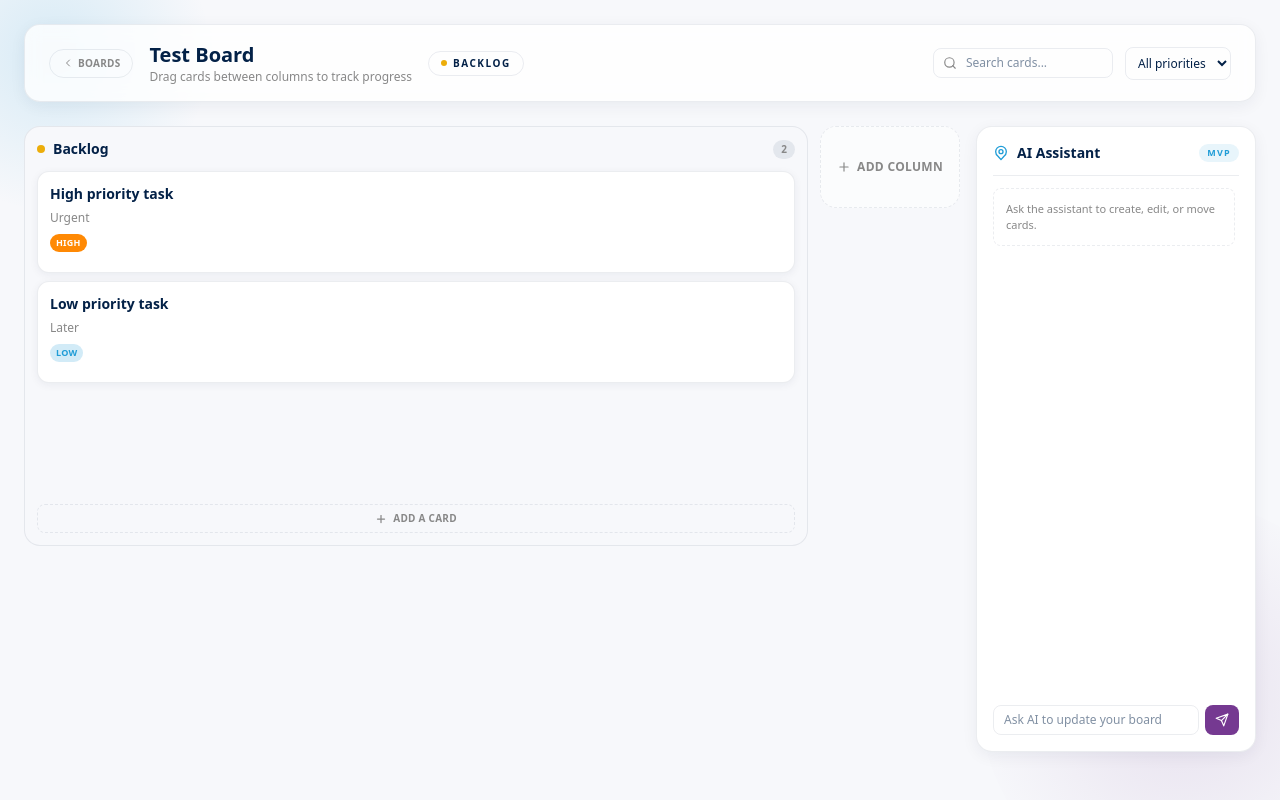
Test: KanbanBoard › filters cards by priority
expect the heading "High priority task" is shown: met, box 50,184 -> 173,203
expect the heading "Low priority task" is shown: met, box 50,294 -> 169,313
Filter to high priority
Select "High" in the dropdown named "filter by priority" at (1178, 63), box 1125,46 -> 1231,80
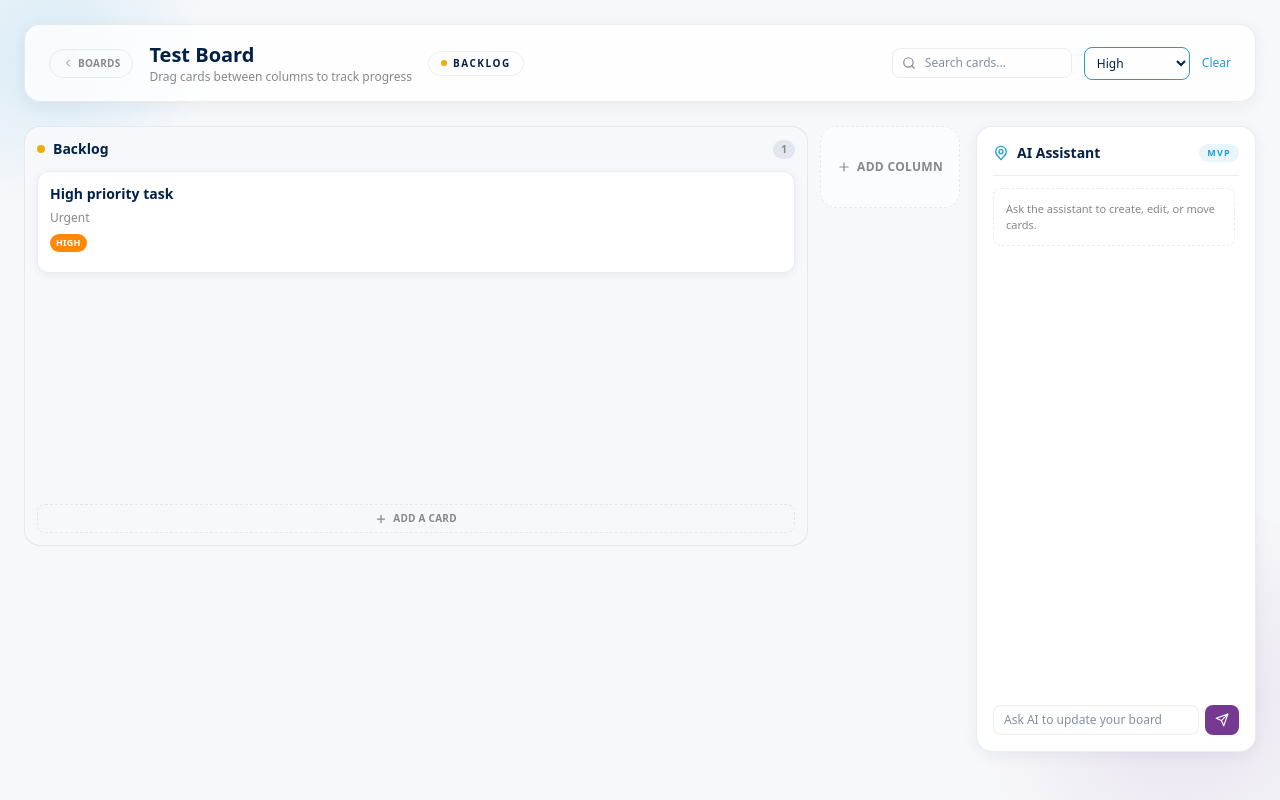
expect the heading "High priority task" is shown: met, box 50,184 -> 173,203
expect the button "Low priority task" is gone: met
